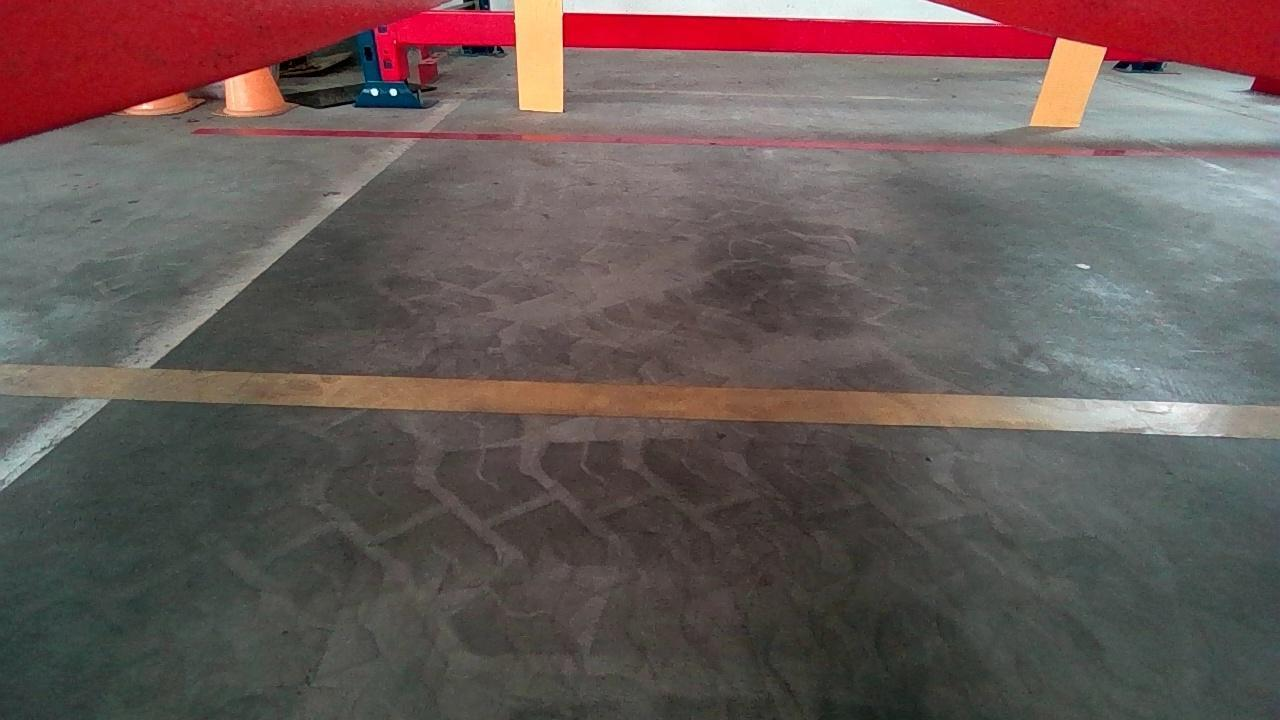h_rack: (404, 10, 1136, 58)
orange_strip: (1030, 41, 1105, 125), (517, 1, 565, 110)
red_line: (188, 123, 1280, 155)
yellow_line: (0, 363, 1280, 440)
